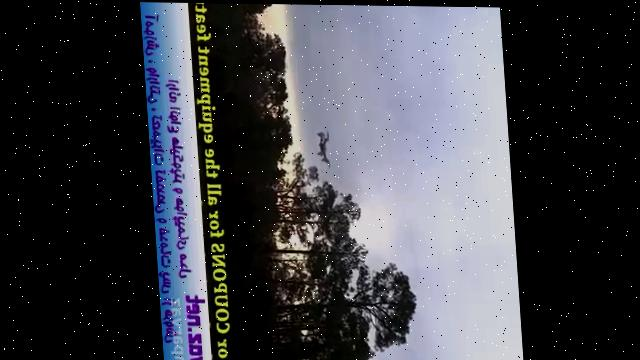drone: (313, 127, 334, 171)
